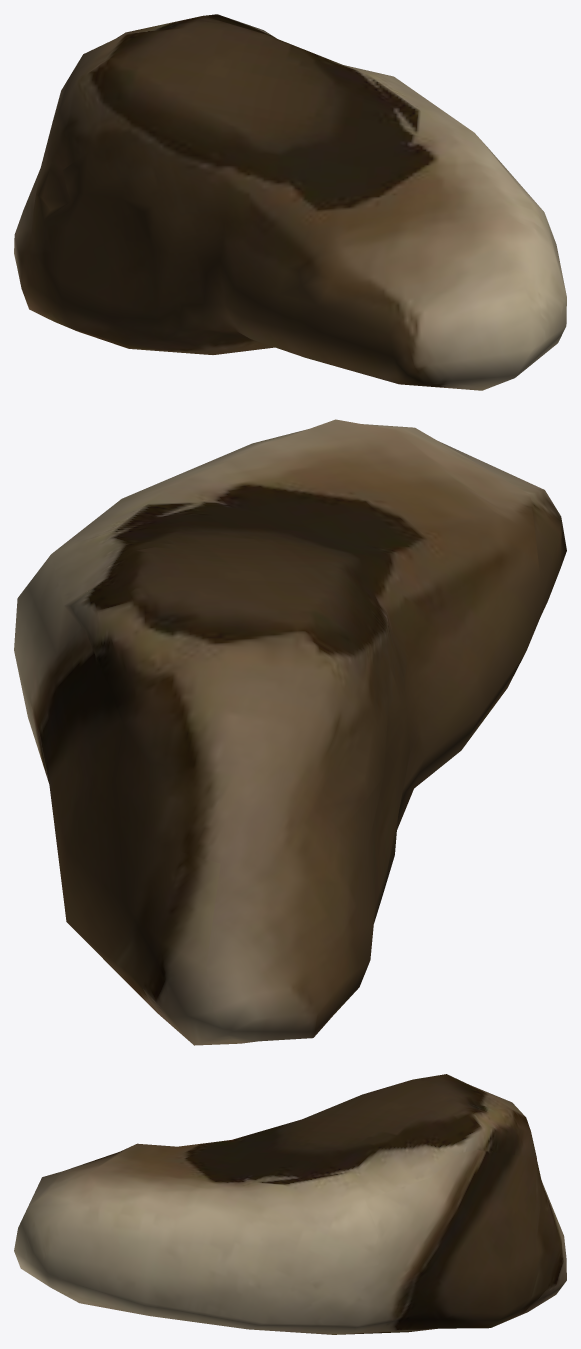
File: Tarsal_II.glb
3 renders of one model, top to bottom at view 1: azimuth 30°, elevation 25°; view 2: azimuth 150°, elevation 25°; view 3: azimuth 270°, elevation 25°, orthographic. The views are drawn at different scales.
Visible parts, largest first — view 1: Tarsal_II_Right1:Group30118; view 2: Tarsal_II_Right1:Group30118; view 3: Tarsal_II_Right1:Group30118.
Boxes of the visible parts, box(x1,y1,x2,y2) form: Tarsal_II_Right1:Group30118: box(14, 14, 566, 390); Tarsal_II_Right1:Group30118: box(14, 419, 566, 1045); Tarsal_II_Right1:Group30118: box(14, 1074, 566, 1334).
Size of the model in its own units: 6.03 by 4.98 by 10.6.
1 material, 1 textured.
